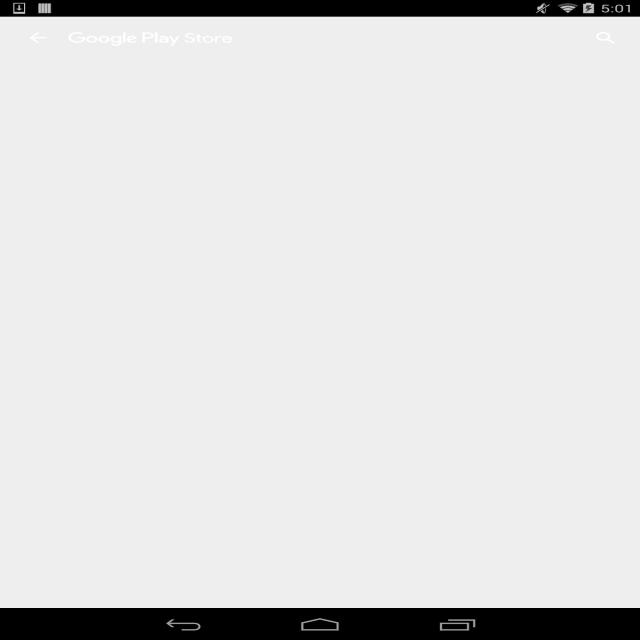button: (589, 27, 621, 47), (26, 29, 50, 47)
heading: (64, 30, 235, 48)
